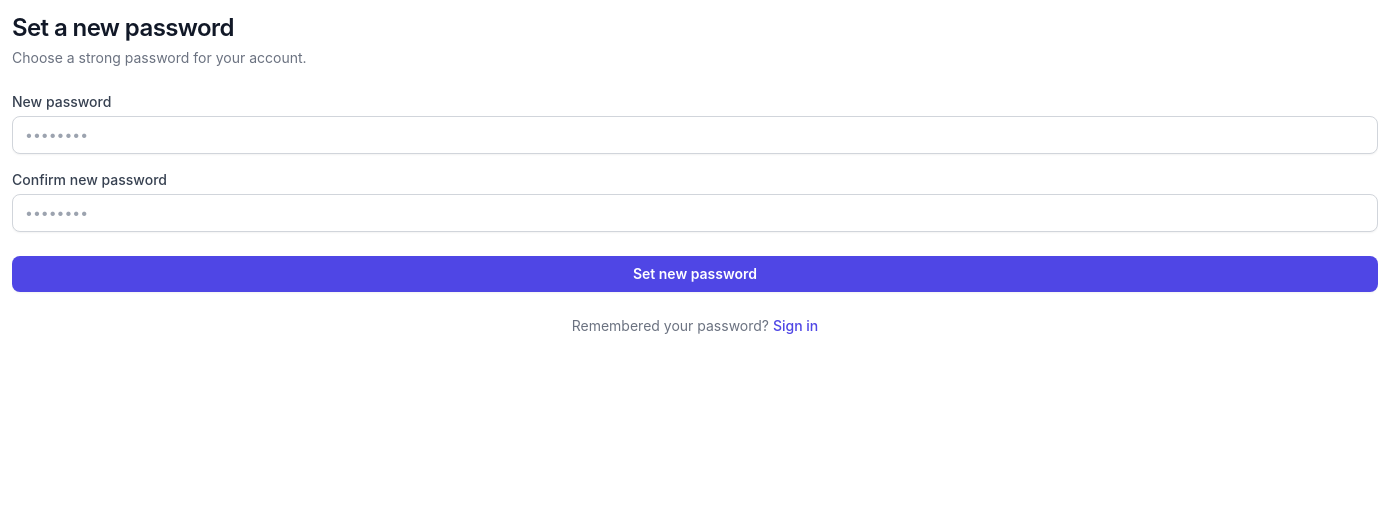
ResetPasswordPage › shows mismatch error when passwords differ
Type "TestPass1!" into the password field labelled "New password". click: {"x": 695, "y": 135}
box: [12,116,1378,154]
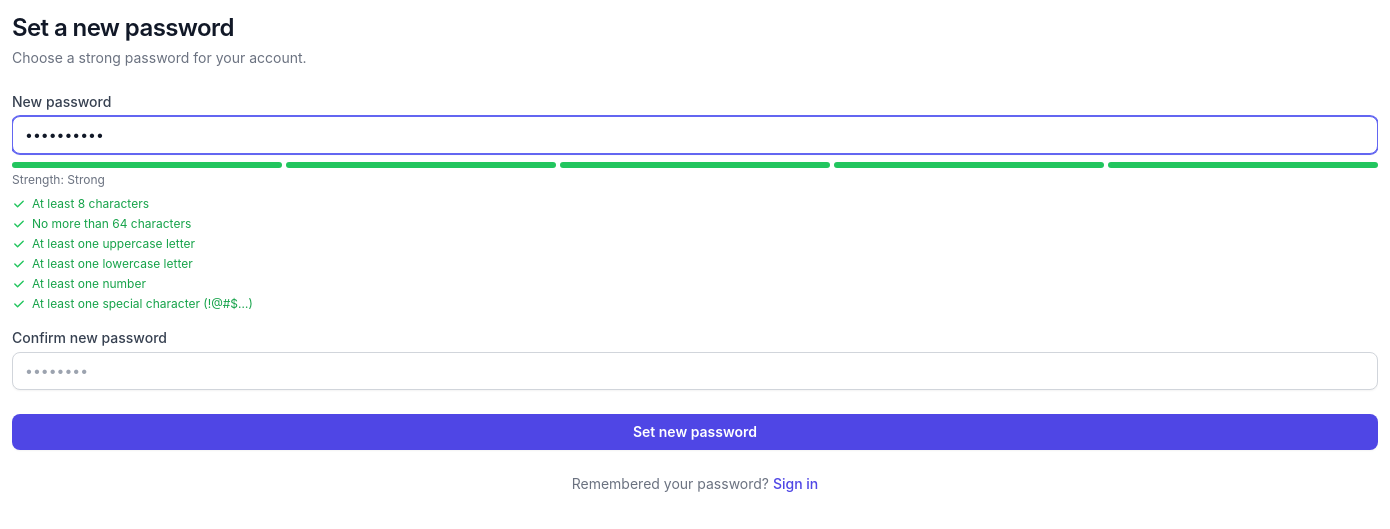
Type "Different1!" into the password field labelled "Confirm new password". click: {"x": 695, "y": 371}
box: [12,352,1378,390]
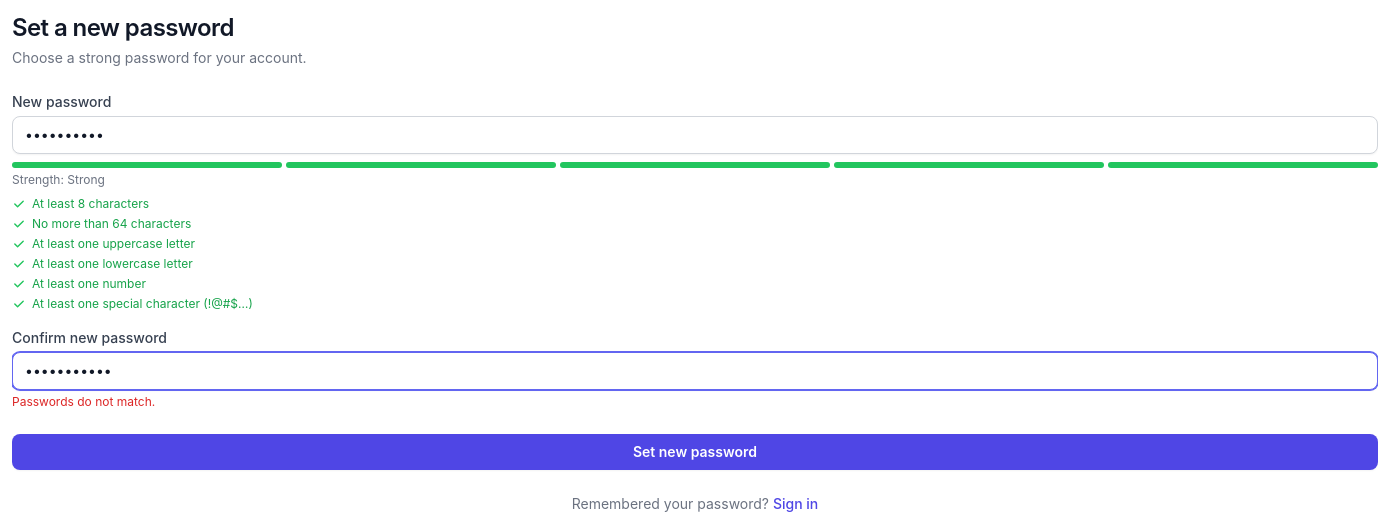
Now the text "Passwords do not match." is shown, box [12,394,155,409]
